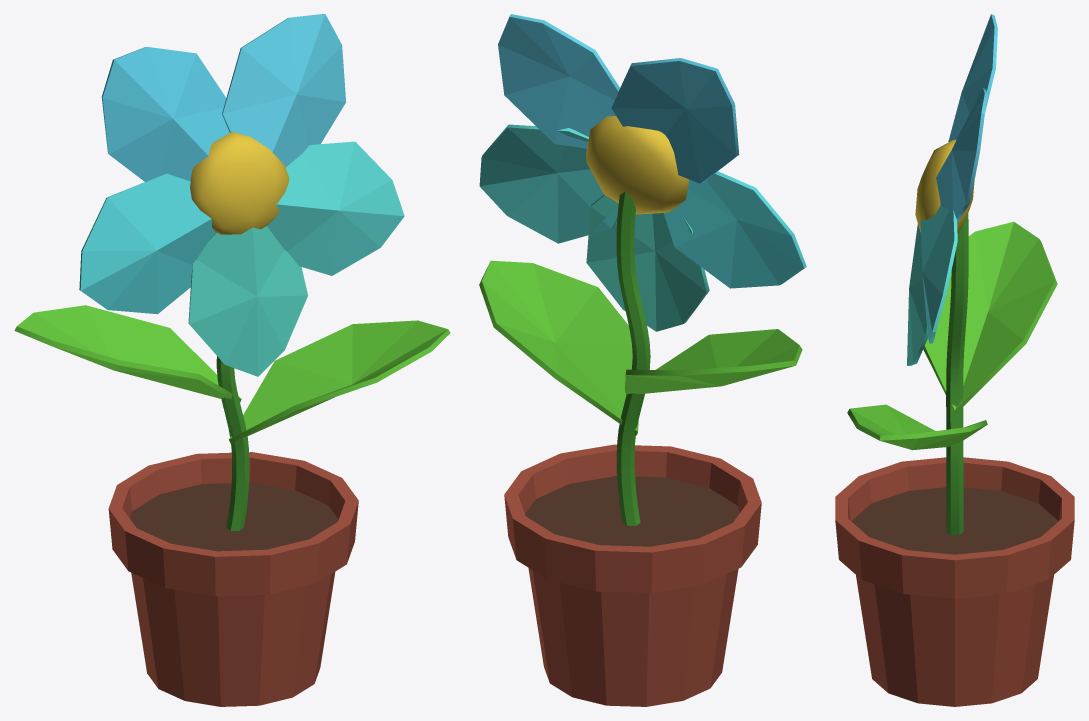
File: FlowerPot.fbx
The picture shows the model from 3 angles, left to right: view 1: azimuth 30°, elevation 25°; view 2: azimuth 150°, elevation 25°; view 3: azimuth 270°, elevation 25°; orthographic projection. The views are drawn at different scales.
Parts seen in each view (by area): view 1: Pot, Petal_2, Petal_3, Petal_4, Petal_1, Petal_5, Leaf_R, Soil, Leaf_L, Flower_Center, Stem; view 2: Pot, Leaf_R, Petal_2, Petal_4, Soil, Petal_5, Petal_3, Petal_1, Flower_Center, Leaf_L, Stem; view 3: Pot, Leaf_L, Soil, Stem, Petal_5, Leaf_R, Petal_4, Petal_3, Petal_1, Flower_Center.
Boxes of the visible parts, <box> form: Pot: <box>108,452,358,706</box>; Petal_2: <box>79,173,215,314</box>; Petal_3: <box>101,47,229,181</box>; Petal_4: <box>222,14,345,167</box>; Petal_1: <box>188,226,307,376</box>; Petal_5: <box>267,141,404,275</box>; Leaf_R: <box>229,320,450,443</box>; Soil: <box>130,482,338,551</box>; Leaf_L: <box>14,305,241,402</box>; Flower_Center: <box>190,132,288,234</box>; Stem: <box>216,356,249,530</box>; Pot: <box>504,444,761,706</box>; Leaf_R: <box>479,260,638,435</box>; Petal_2: <box>663,171,806,288</box>; Petal_4: <box>498,14,619,148</box>; Soil: <box>525,476,739,546</box>; Petal_5: <box>479,124,618,243</box>; Petal_3: <box>611,58,739,183</box>; Petal_1: <box>586,194,709,331</box>; Flower_Center: <box>586,116,689,214</box>; Leaf_L: <box>625,329,802,394</box>; Stem: <box>616,191,650,525</box>; Pot: <box>835,457,1074,706</box>; Leaf_L: <box>923,221,1057,414</box>; Soil: <box>851,487,1058,554</box>; Stem: <box>946,213,968,535</box>; Petal_5: <box>920,205,957,343</box>; Leaf_R: <box>847,404,987,450</box>; Petal_4: <box>936,88,987,223</box>; Petal_3: <box>948,14,997,142</box>; Petal_1: <box>907,224,928,365</box>; Flower_Center: <box>915,139,974,234</box>.
Bounding box in the file's own units: 43.95 × 71.5 × 25.35.
